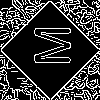M: (25, 25, 70, 66)
